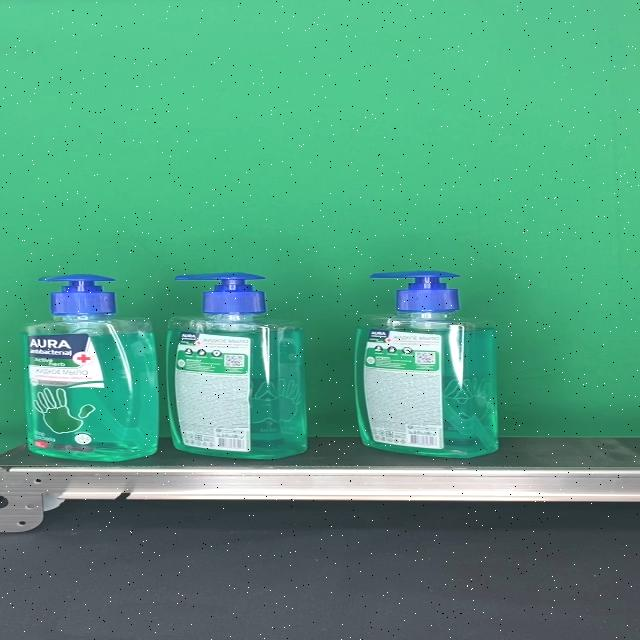Bottle: (356, 269, 498, 458), (166, 273, 306, 460), (22, 274, 160, 462)
Cap: (174, 273, 265, 315), (370, 270, 461, 312), (37, 273, 117, 314)
